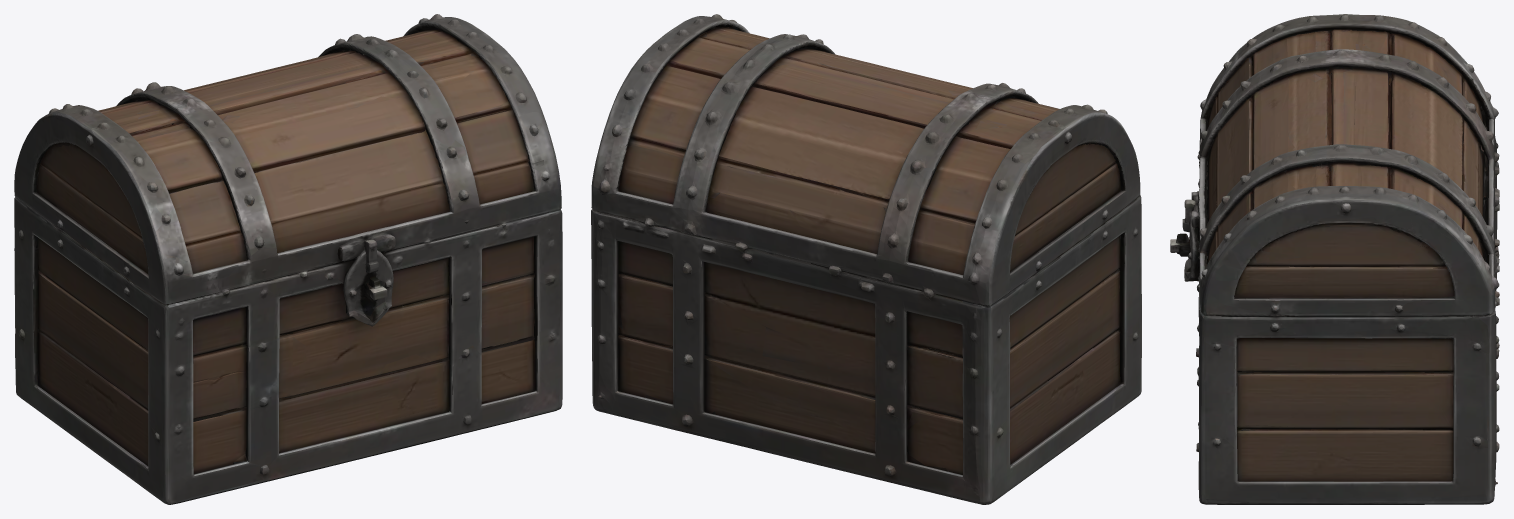
The model's file is treasure_chest.glb.
3 views of the same model, side by side, from view 1: azimuth 30°, elevation 25°; view 2: azimuth 150°, elevation 25°; view 3: azimuth 270°, elevation 25° (orthographic). The views are drawn at different scales.
Parts seen in each view (by area): view 1: geometry_0; view 2: geometry_0; view 3: geometry_0.
Part boxes in pixels (bbox=[...]): geometry_0: bbox=[14, 14, 562, 504]; geometry_0: bbox=[591, 14, 1141, 504]; geometry_0: bbox=[1170, 14, 1499, 504].
Size of the model in its own units: 1 by 0.7802 by 0.7379.
1 material, 1 textured.
